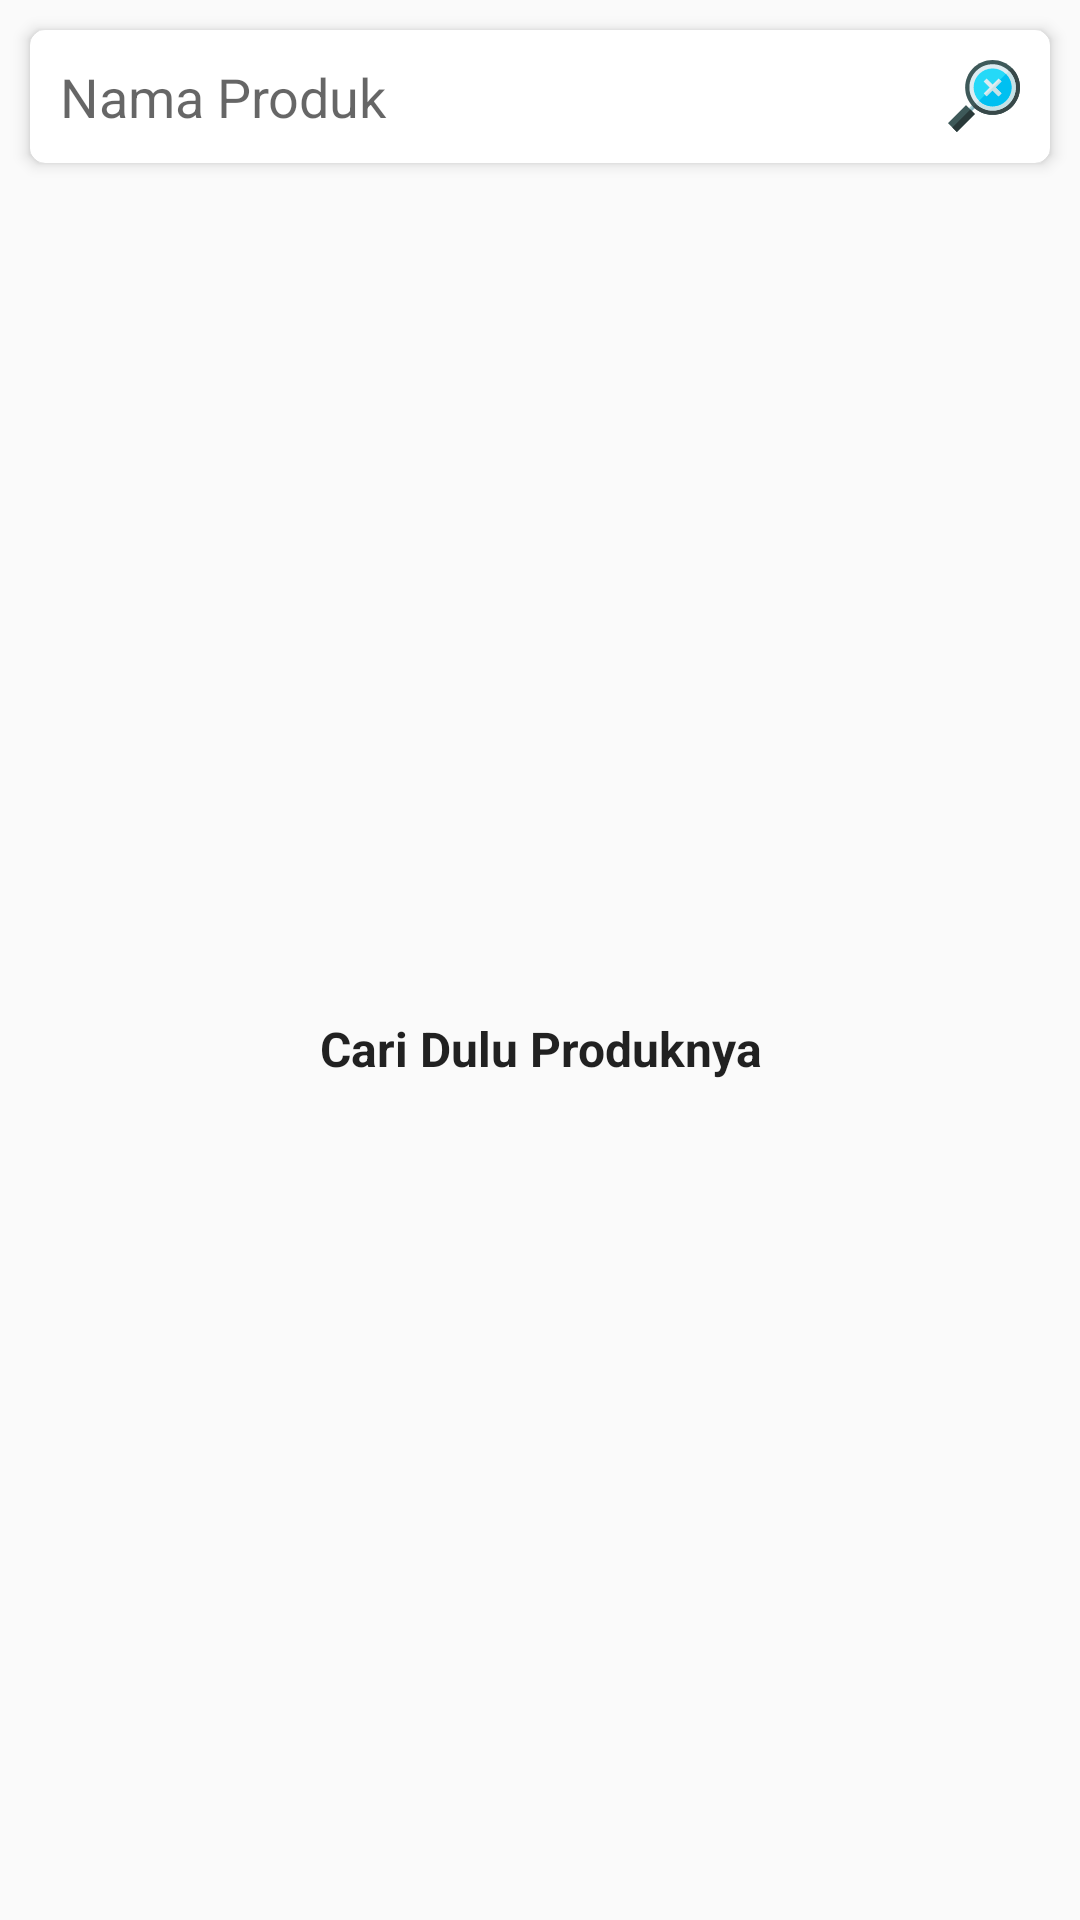

Point at icon controls on the screen. Image size 1080x1920, points as point (x, y).
search: point (984, 96)
